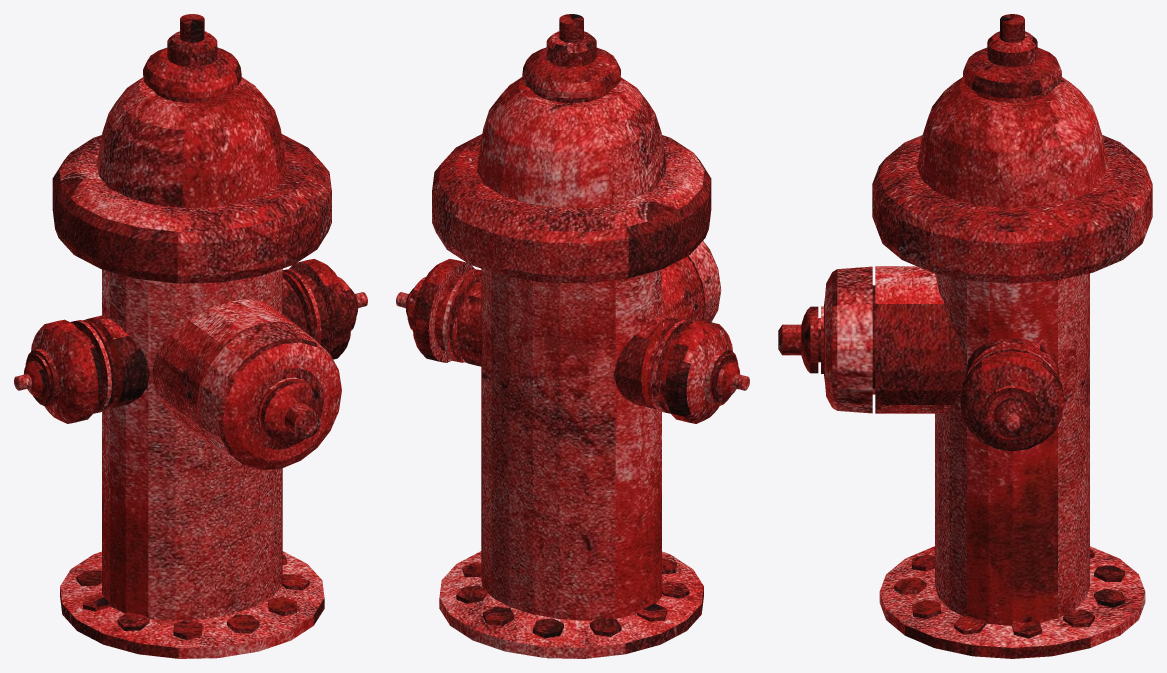
The model's file is fireH.obj.
The picture shows the model from 3 angles, left to right: view 1: azimuth 30°, elevation 25°; view 2: azimuth 150°, elevation 25°; view 3: azimuth 270°, elevation 25°; orthographic projection.
Parts seen in each view (by area): view 1: Circle.004_Circle.006; view 2: Circle.004_Circle.006; view 3: Circle.004_Circle.006.
Part boxes in pixels (bbox=[...]): Circle.004_Circle.006: bbox=[14, 14, 367, 658]; Circle.004_Circle.006: bbox=[396, 14, 749, 658]; Circle.004_Circle.006: bbox=[778, 14, 1152, 658].
Size of the model in its own units: 0.7538 by 1.22 by 0.702.
